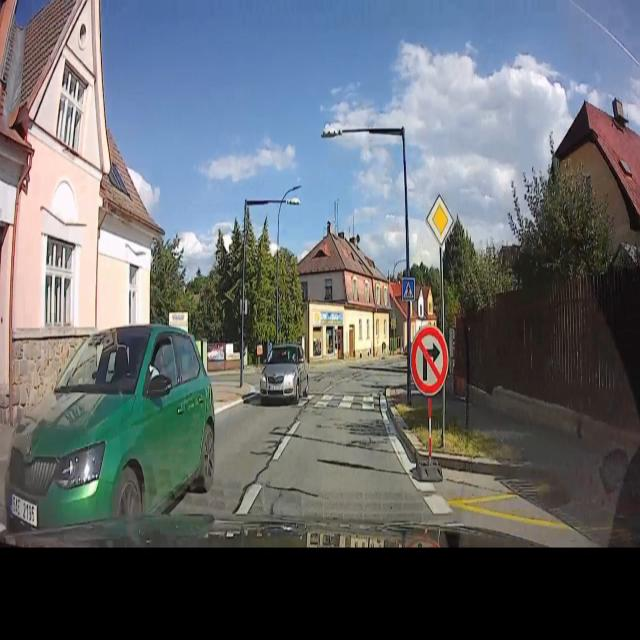Pedestrian crosswalk: (298, 387, 386, 413), (401, 275, 416, 302)
